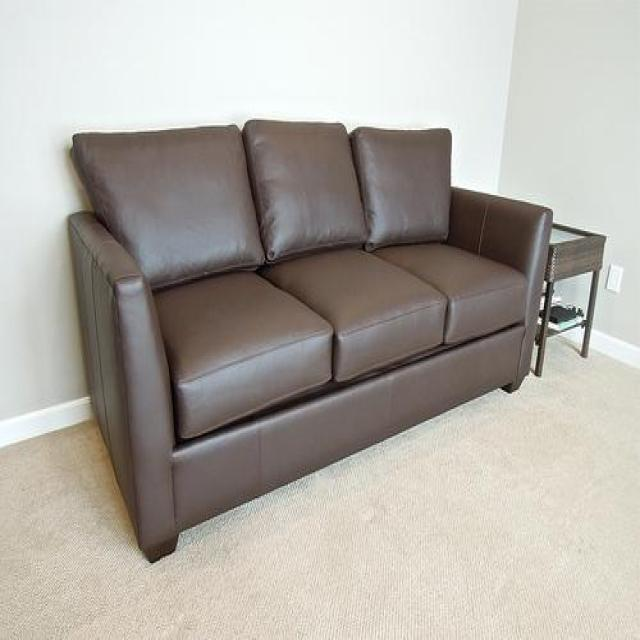sofa: (64, 118, 553, 562)
